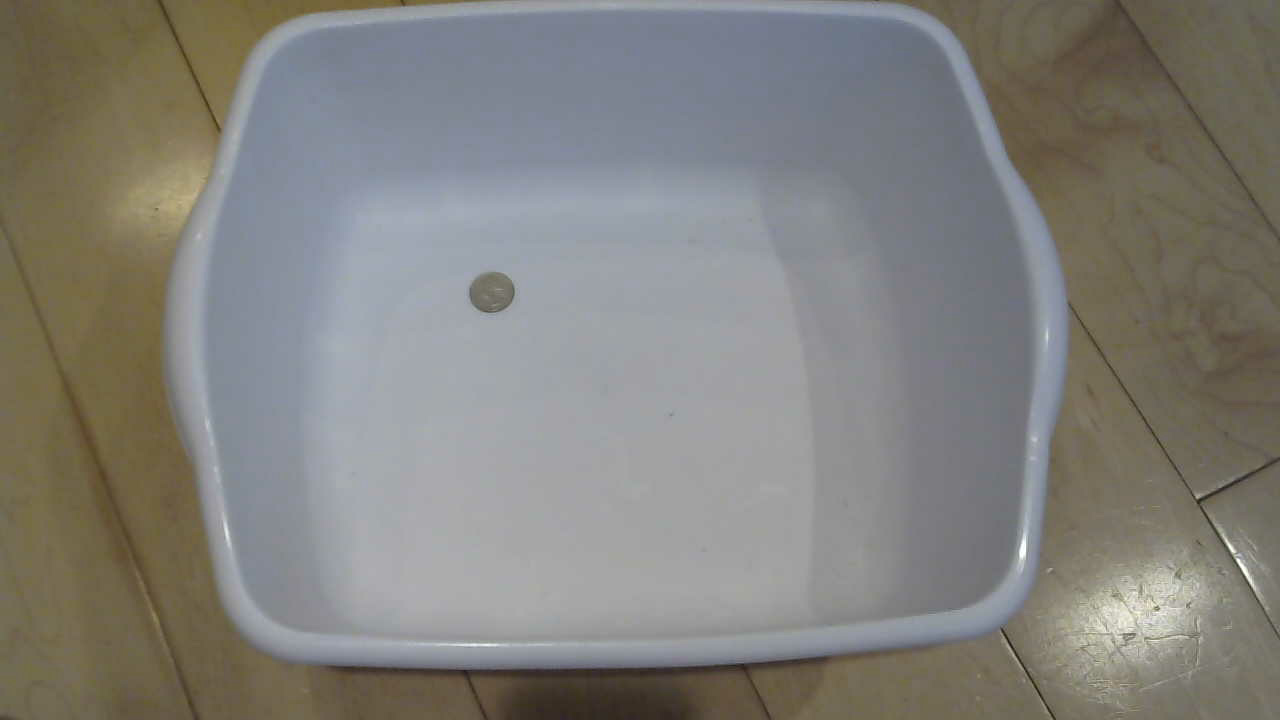coin: (462, 270, 542, 326)
